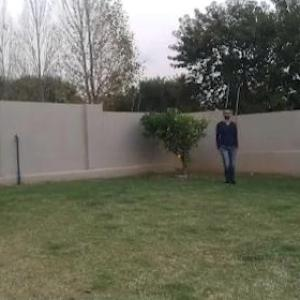follow: (220, 106, 240, 189)
